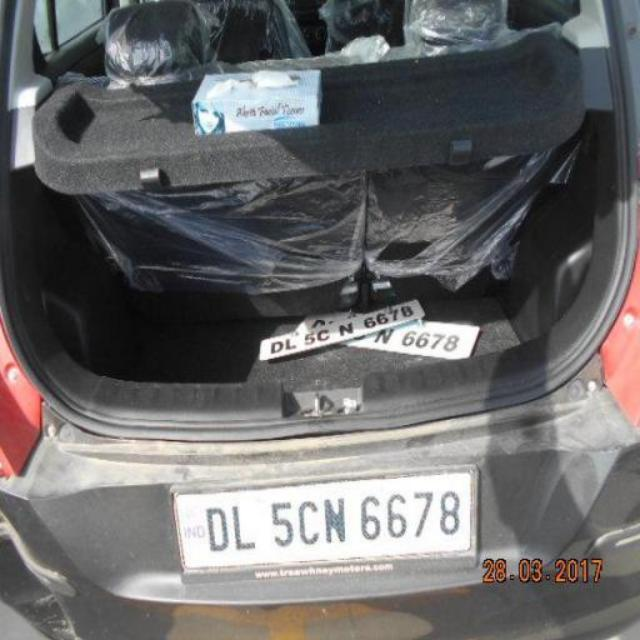dislocated part: (0, 510, 80, 640)
